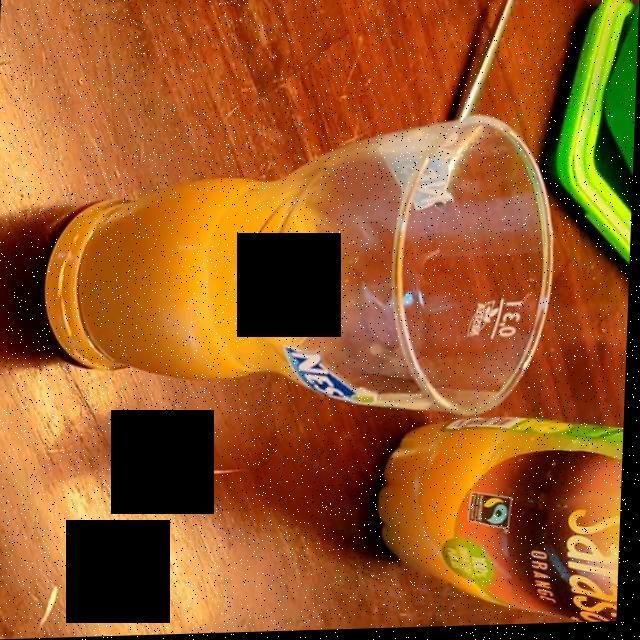juice: (68, 195, 301, 372)
